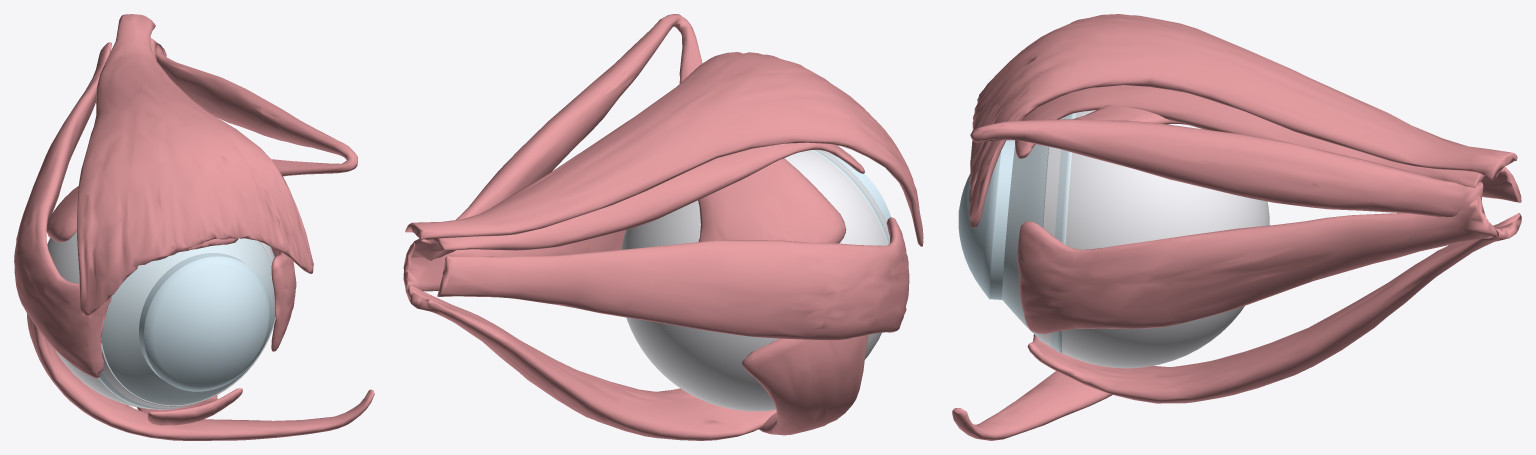
Rendered from eye.glb.
3 views of the same model, side by side, from view 1: azimuth 30°, elevation 25°; view 2: azimuth 150°, elevation 25°; view 3: azimuth 270°, elevation 25° (orthographic). The views are drawn at different scales.
Visible parts, largest first — view 1: Levator palpebrae superioris, Cornea, Lateral rectus muscle, Anterior segment of eyeball, Superior oblique muscle, Inferior oblique muscle, Posterior segment of eyeball, Medial rectus muscle, Inferior rectus muscle, Superior rectus muscle; view 2: Lateral rectus muscle, Levator palpebrae superioris, Superior oblique muscle, Posterior segment of eyeball, Inferior rectus muscle, Superior rectus muscle, Inferior oblique muscle, Medial rectus muscle, Cornea; view 3: Medial rectus muscle, Levator palpebrae superioris, Superior oblique muscle, Posterior segment of eyeball, Inferior rectus muscle, Superior rectus muscle, Anterior segment of eyeball, Cornea, Inferior oblique muscle, Lateral rectus muscle.
Part boxes in pixels (left/top/right/bottom): Levator palpebrae superioris: left=77, top=14, right=313, bottom=315; Cornea: left=139, top=253, right=271, bottom=391; Lateral rectus muscle: left=14, top=42, right=111, bottom=377; Anterior segment of eyeball: left=98, top=238, right=275, bottom=409; Superior oblique muscle: left=46, top=43, right=357, bottom=242; Inferior oblique muscle: left=27, top=313, right=374, bottom=440; Posterior segment of eyeball: left=47, top=232, right=275, bottom=408; Medial rectus muscle: left=162, top=48, right=296, bottom=351; Inferior rectus muscle: left=137, top=388, right=242, bottom=425; Superior rectus muscle: left=116, top=38, right=238, bottom=260; Lateral rectus muscle: left=437, top=217, right=909, bottom=340; Levator palpebrae superioris: left=405, top=52, right=923, bottom=246; Superior oblique muscle: left=411, top=14, right=846, bottom=260; Posterior segment of eyeball: left=621, top=150, right=889, bottom=411; Inferior rectus muscle: left=405, top=284, right=776, bottom=440; Superior rectus muscle: left=426, top=142, right=864, bottom=250; Inferior oblique muscle: left=742, top=335, right=868, bottom=435; Medial rectus muscle: left=403, top=230, right=625, bottom=291; Cornea: left=824, top=151, right=890, bottom=222; Medial rectus muscle: left=1017, top=196, right=1498, bottom=333; Levator palpebrae superioris: left=968, top=14, right=1517, bottom=227; Superior oblique muscle: left=970, top=105, right=1483, bottom=216; Posterior segment of eyeball: left=1038, top=110, right=1269, bottom=368; Inferior rectus muscle: left=1027, top=213, right=1521, bottom=403; Superior rectus muscle: left=1015, top=85, right=1484, bottom=187; Anterior segment of eyeball: left=1002, top=113, right=1075, bottom=353; Cornea: left=958, top=140, right=1014, bottom=299; Inferior oblique muscle: left=952, top=371, right=1112, bottom=440; Lateral rectus muscle: left=1481, top=167, right=1521, bottom=202.
Bounding box in the file's own units: 1.72 × 1.84 × 2.6.
